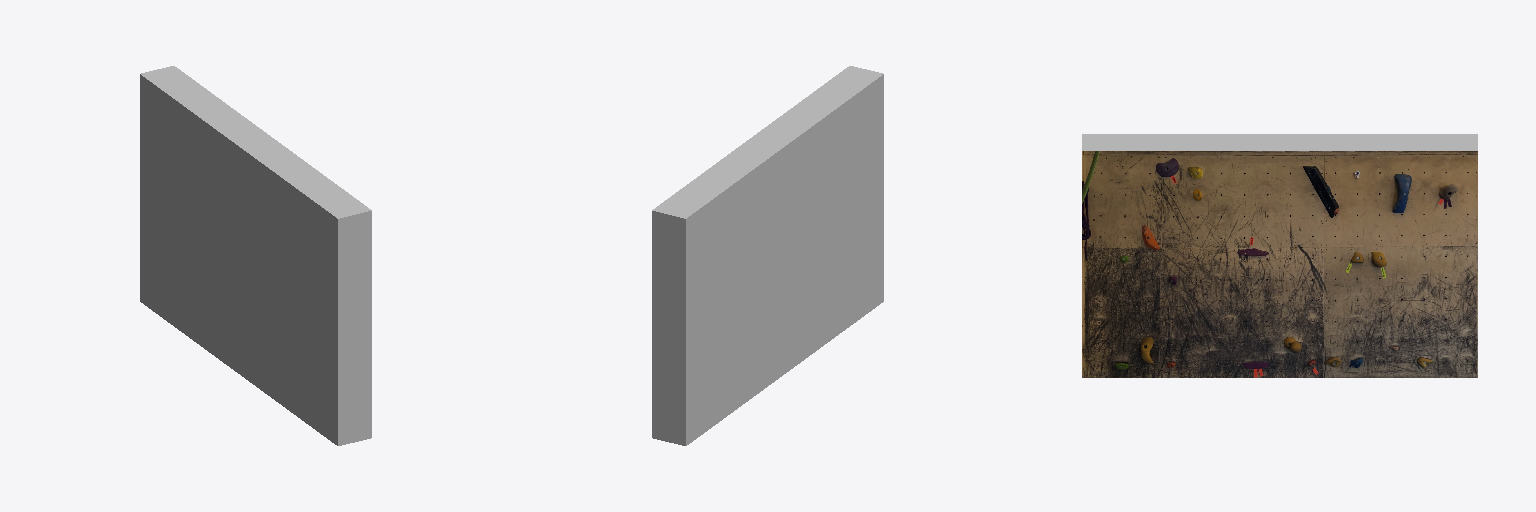
The picture shows the model from 3 angles: view 1: azimuth 30°, elevation 25°; view 2: azimuth 150°, elevation 25°; view 3: azimuth 270°, elevation 25°; orthographic projection.
Parts seen in each view (by area): view 1: Cube; view 2: Cube; view 3: Cube.
Boxes of the visible parts, x1=… form: Cube: x1=140, y1=66, x2=371, y2=445; Cube: x1=652, y1=66, x2=883, y2=445; Cube: x1=1082, y1=134, x2=1477, y2=377.
Size of the model in its own units: 0.3 by 1.9 by 3.
2 materials, 1 textured.